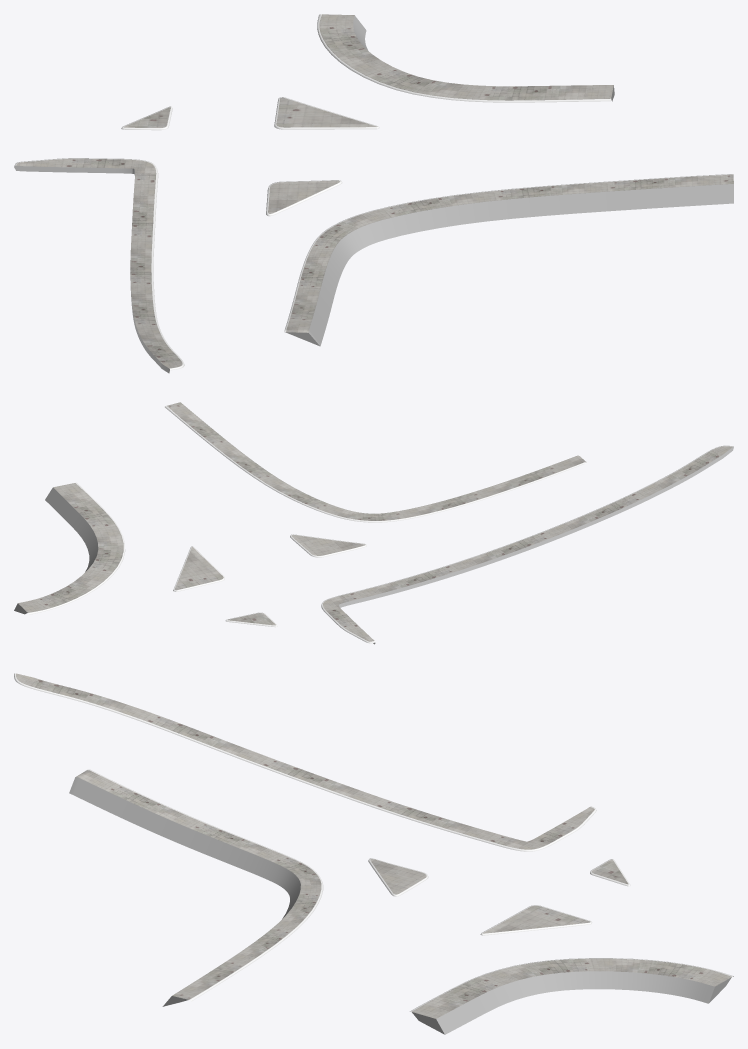
File: sidewalk_intersection_canyon.dae
3 renders of one model, top to bottom at view 1: azimuth 30°, elevation 25°; view 2: azimuth 150°, elevation 25°; view 3: azimuth 270°, elevation 25°, orthographic. The views are drawn at different scales.
Parts seen in each view (by area): view 1: s_sidewalk_intersection_canyon1_a2000; view 2: s_sidewalk_intersection_canyon1_a2000; view 3: s_sidewalk_intersection_canyon1_a2000.
Boxes of the visible parts, bbox=[...] form: s_sidewalk_intersection_canyon1_a2000: bbox=[14, 14, 733, 373]; s_sidewalk_intersection_canyon1_a2000: bbox=[14, 402, 733, 644]; s_sidewalk_intersection_canyon1_a2000: bbox=[14, 673, 733, 1034].
Bounding box in the file's own units: 69.52 × 69.84 × 7.91.
